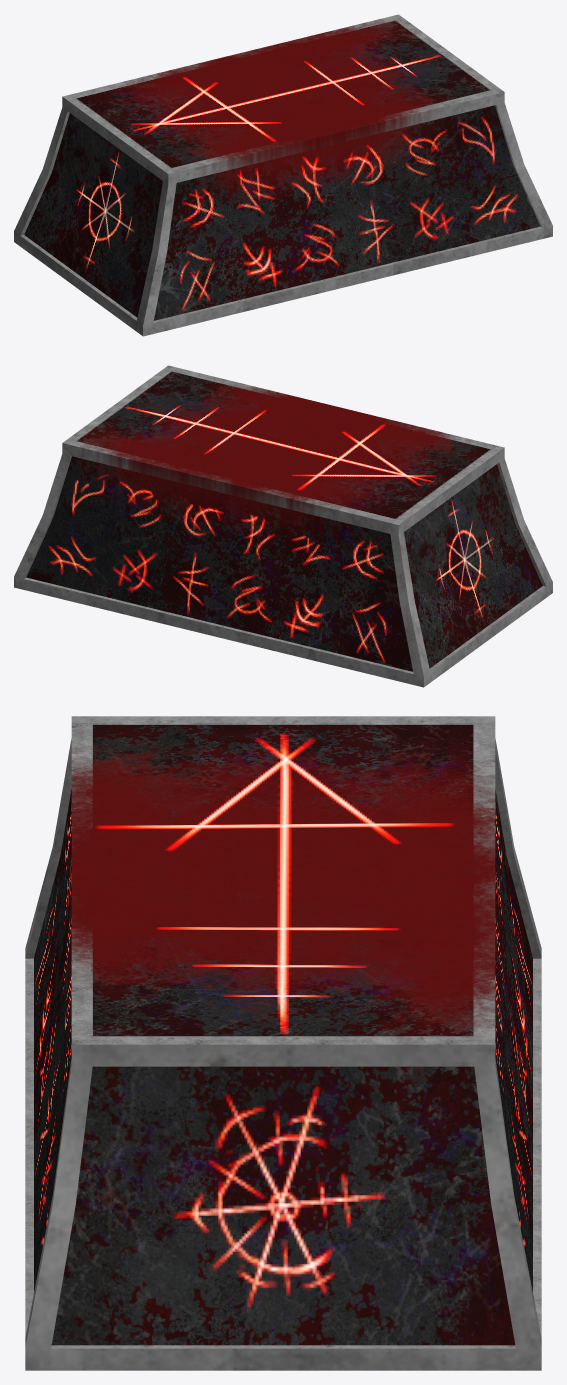
The model's file is sacrificial_altar.glb.
3 views of the same model, one above another, from view 1: azimuth 30°, elevation 25°; view 2: azimuth 150°, elevation 25°; view 3: azimuth 270°, elevation 25° (orthographic). The views are drawn at different scales.
Parts seen in each view (by area): view 1: Altar; view 2: Altar; view 3: Altar.
Part boxes in pixels (x1,y1,x2,y2): Altar: (14, 14, 552, 336); Altar: (14, 365, 552, 687); Altar: (25, 716, 541, 1370).
Bounding box in the file's own units: 246 × 83.24 × 134.
1 material, 1 textured.
